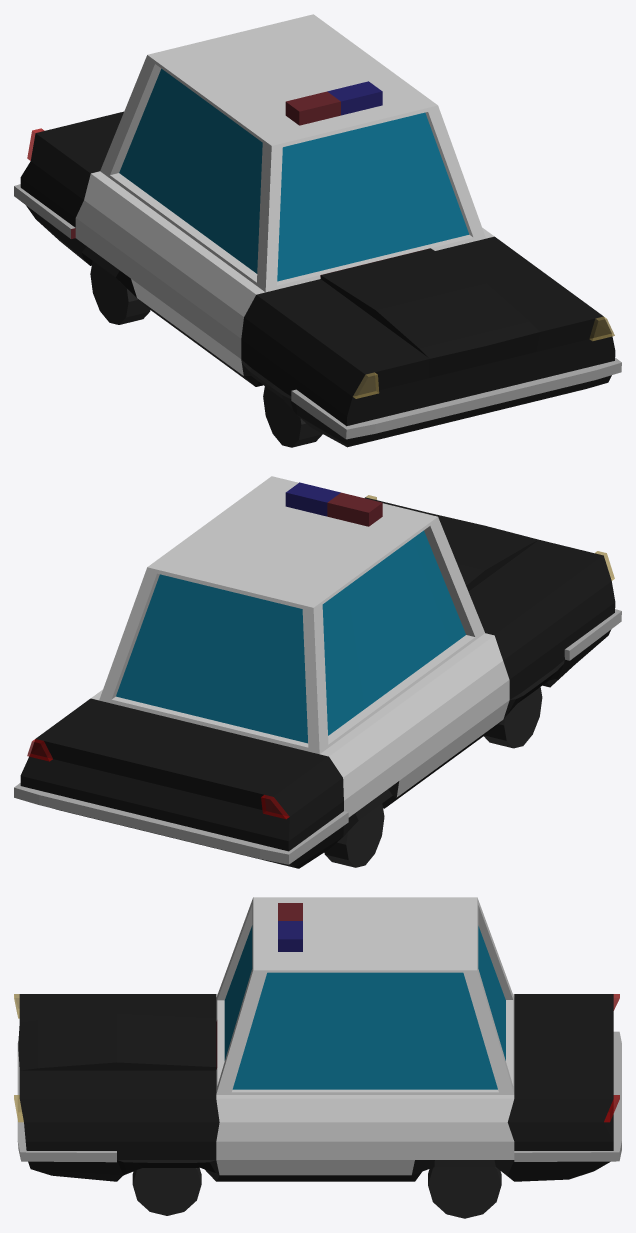
The model's file is policecar.fbx.
The picture shows the model from 3 angles, top to bottom: view 1: azimuth 30°, elevation 25°; view 2: azimuth 150°, elevation 25°; view 3: azimuth 270°, elevation 25°; orthographic projection. The views are drawn at different scales.
Parts seen in each view (by area): view 1: car, wheel_back_right, wheel_front_right; view 2: car, wheel_back_right, wheel_front_right; view 3: car, wheel_back_left, wheel_front_left.
Part boxes in pixels (x1,y1,x2,y2): car: (14,14,621,447); wheel_back_right: (90,261,150,324); wheel_front_right: (263,386,322,447); car: (14,476,621,868); wheel_back_right: (324,803,384,867); wheel_front_right: (484,687,542,748); car: (14,897,621,1181); wheel_back_left: (428,1167,501,1218); wheel_front_left: (132,1168,201,1215).
Size of the model in its own units: 97.84 by 90.45 by 206.
